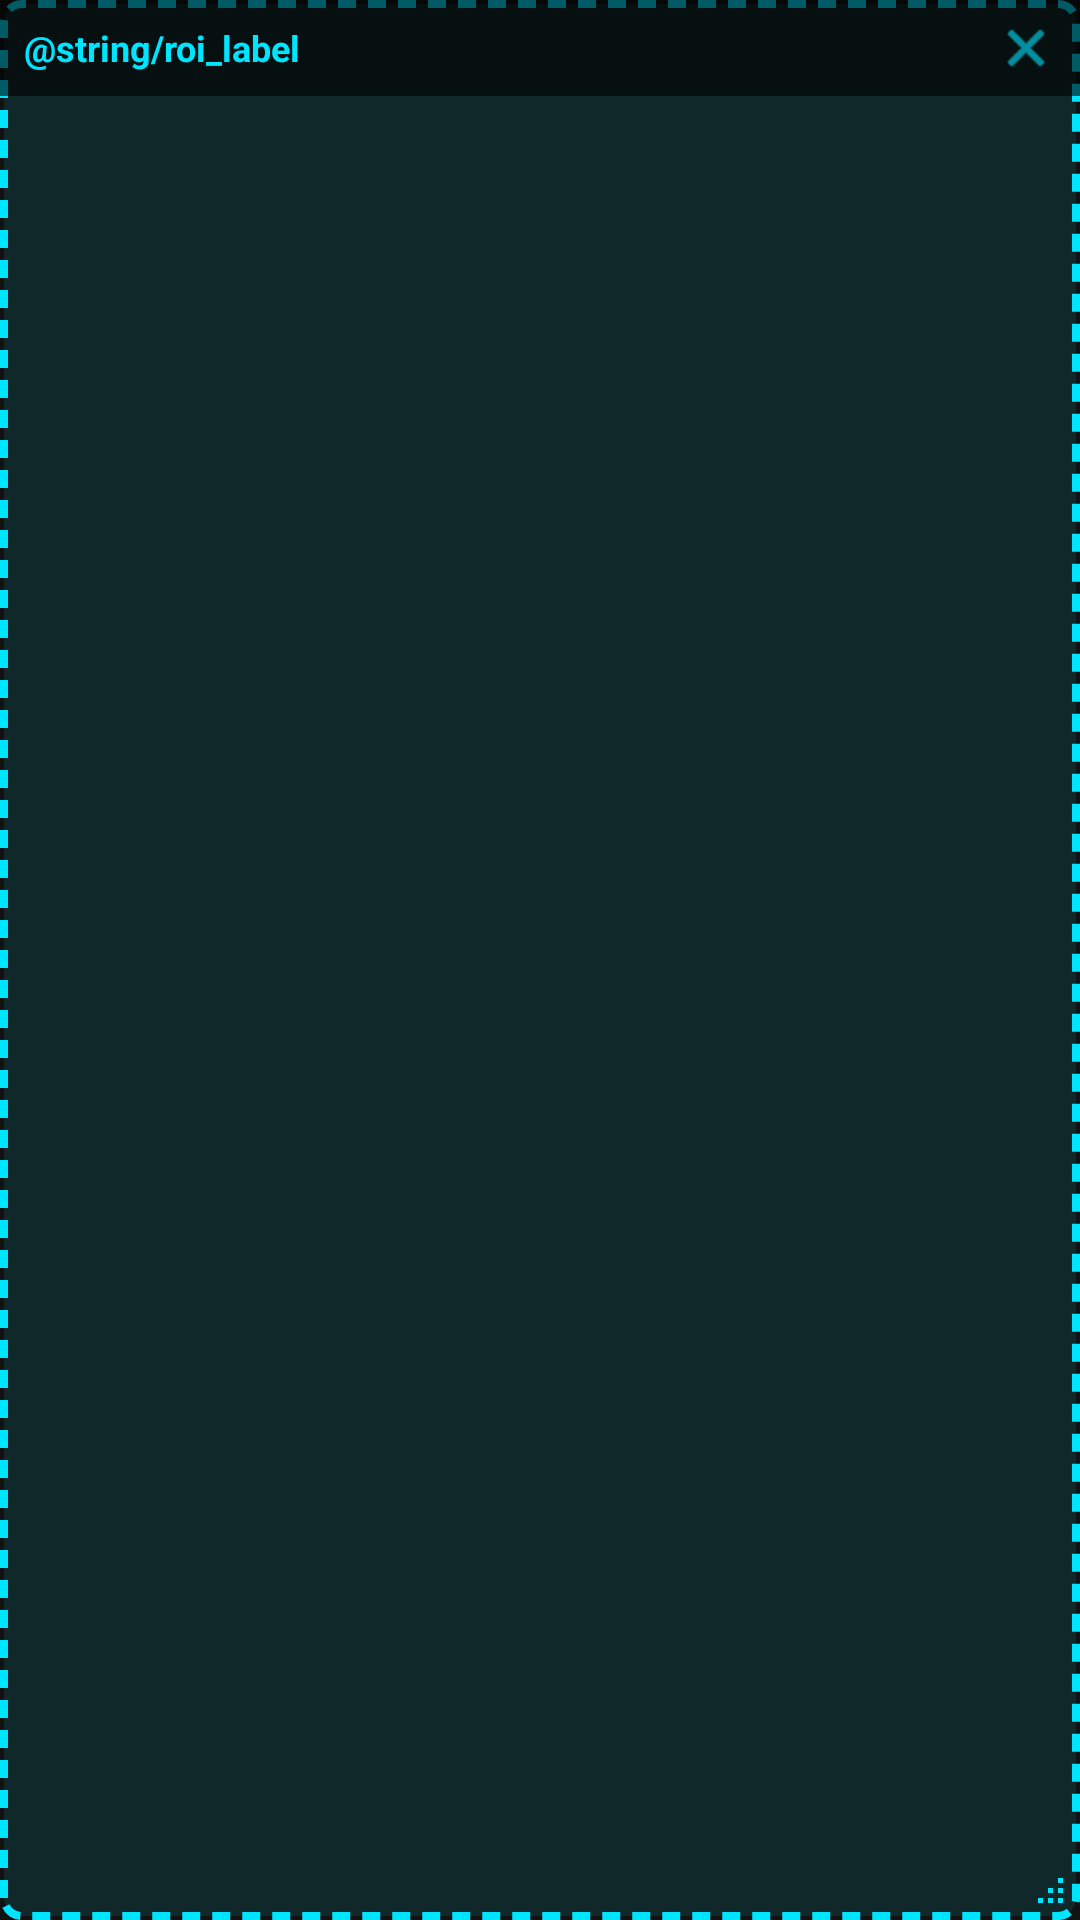

Named icons in this screenshot (1080px x 1920px) and their centers, point (x, y):
Close ROI: point (1026, 48)
